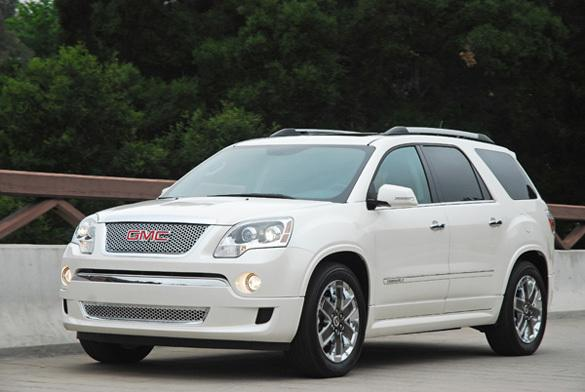GMC: (123, 226, 180, 249)
